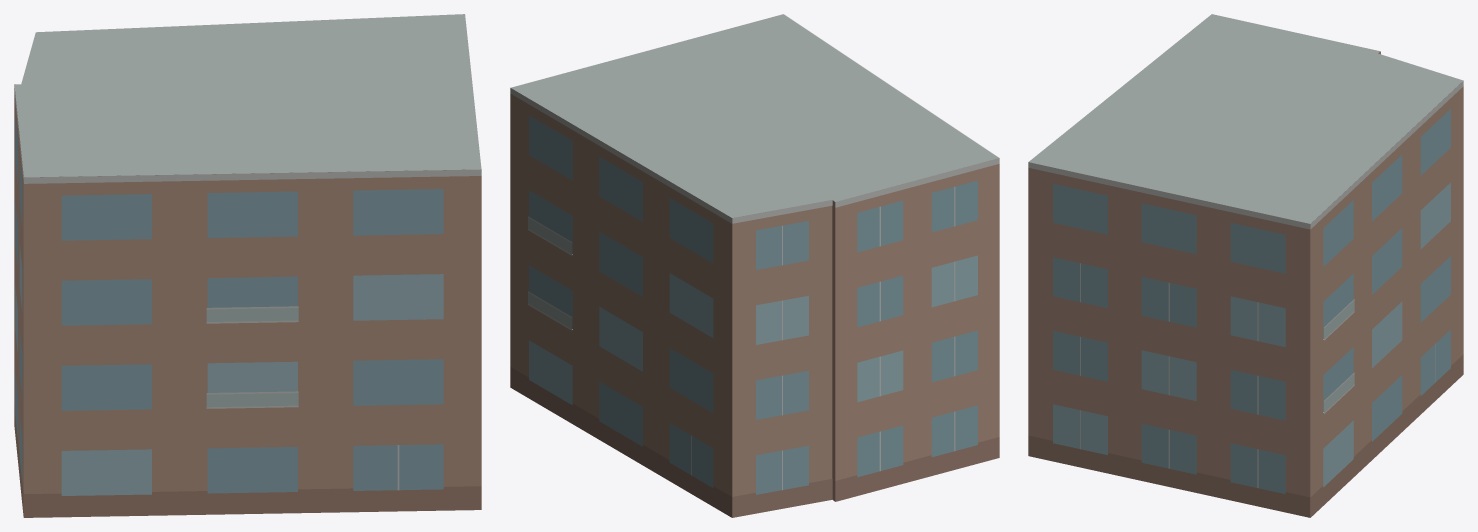
File: survey-upis-32671432.glb
3 views of the same model, side by side, from view 1: azimuth 30°, elevation 25°; view 2: azimuth 150°, elevation 25°; view 3: azimuth 270°, elevation 25° (orthographic). The views are drawn at different scales.
Parts seen in each view (by area): view 1: survey-upis-32671432.tmp; view 2: survey-upis-32671432.tmp; view 3: survey-upis-32671432.tmp.
Part boxes in pixels (<box>): survey-upis-32671432.tmp: <box>14,14,481,517</box>; survey-upis-32671432.tmp: <box>510,14,999,517</box>; survey-upis-32671432.tmp: <box>1028,14,1463,517</box>.
Size of the model in its own units: 19.62 by 12.8 by 17.19.
